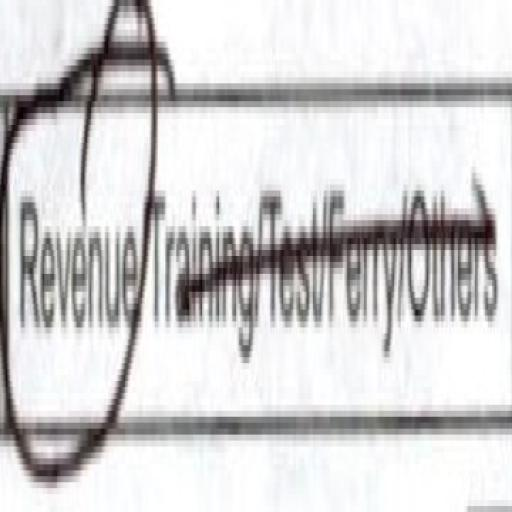check: (1, 2, 152, 480)
